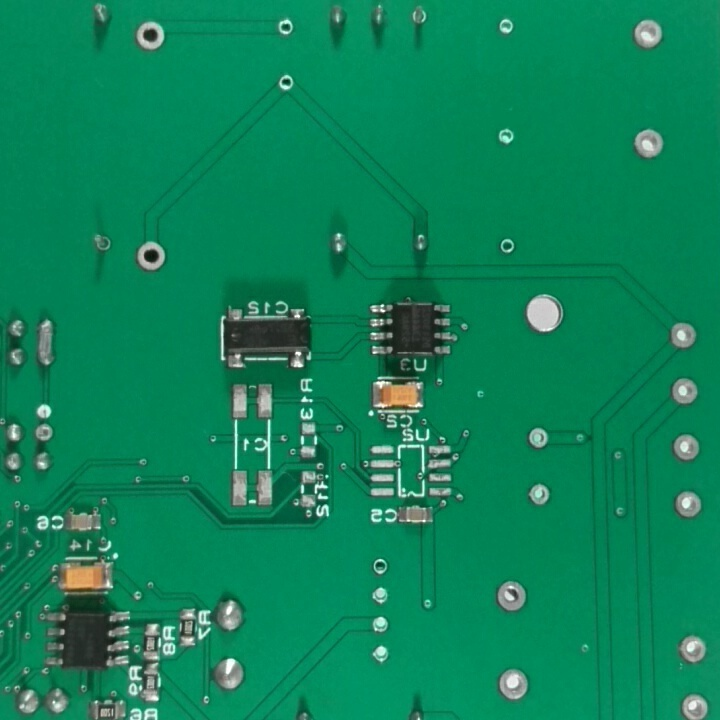F: (494, 666, 534, 706), (630, 16, 668, 53), (134, 240, 171, 275), (494, 578, 529, 615), (674, 487, 707, 526), (134, 20, 170, 55), (631, 127, 666, 163), (671, 429, 705, 466), (668, 319, 702, 352), (678, 689, 714, 720), (671, 377, 701, 411), (677, 633, 707, 664), (526, 425, 554, 455), (32, 423, 56, 449), (91, 232, 114, 256), (369, 644, 394, 666), (409, 6, 431, 30), (370, 584, 391, 608), (497, 238, 519, 260), (276, 72, 297, 95), (496, 127, 518, 148), (372, 617, 394, 638), (371, 556, 390, 580), (277, 18, 296, 38), (497, 18, 517, 36)
P: (33, 318, 60, 373)
